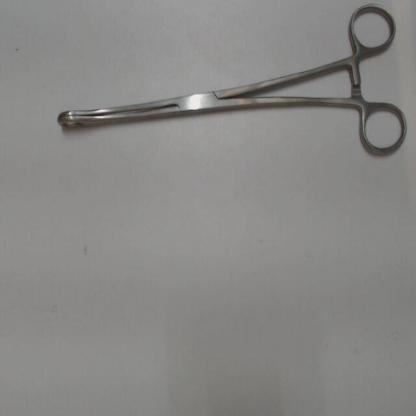Sponge Forceps: (48, 1, 412, 170)
